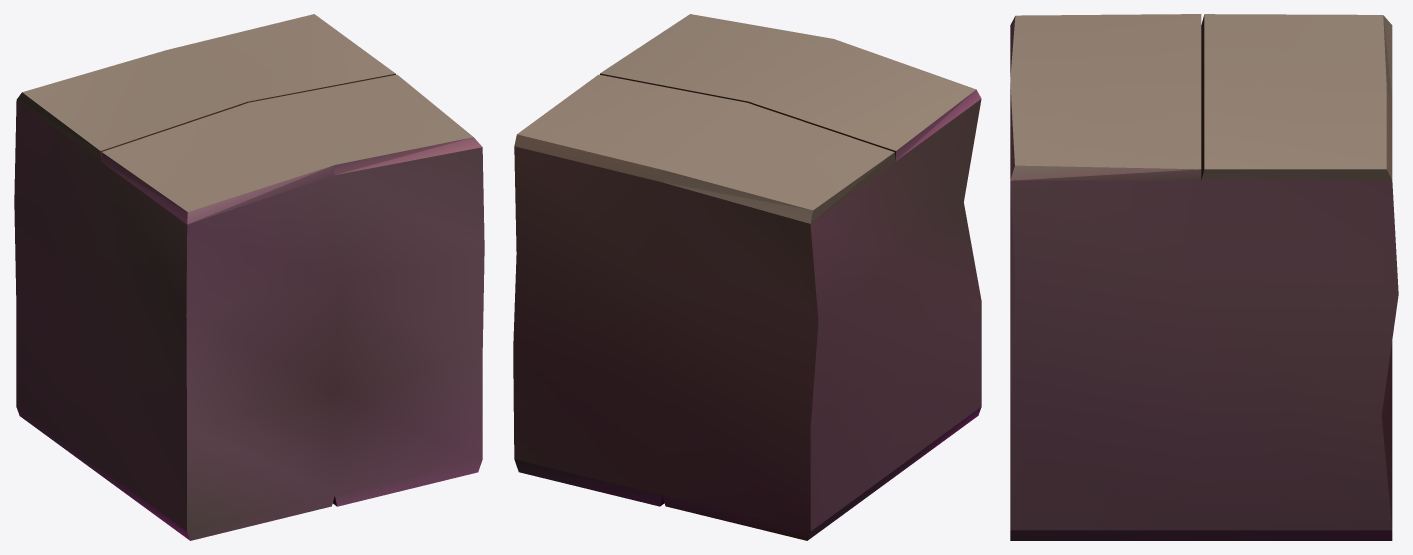
The model's file is closed_cardboard_box.FBX.
3 views of the same model, side by side, from view 1: azimuth 30°, elevation 25°; view 2: azimuth 150°, elevation 25°; view 3: azimuth 270°, elevation 25° (orthographic). The views are drawn at different scales.
Visible parts, largest first — view 1: closed cardboard box; view 2: closed cardboard box; view 3: closed cardboard box.
Boxes of the visible parts, x1=… form: closed cardboard box: x1=14, y1=14, x2=484, y2=540; closed cardboard box: x1=513, y1=14, x2=981, y2=540; closed cardboard box: x1=1010, y1=14, x2=1398, y2=540.
Size of the model in its own units: 0.9486 by 1.01 by 0.9303.
